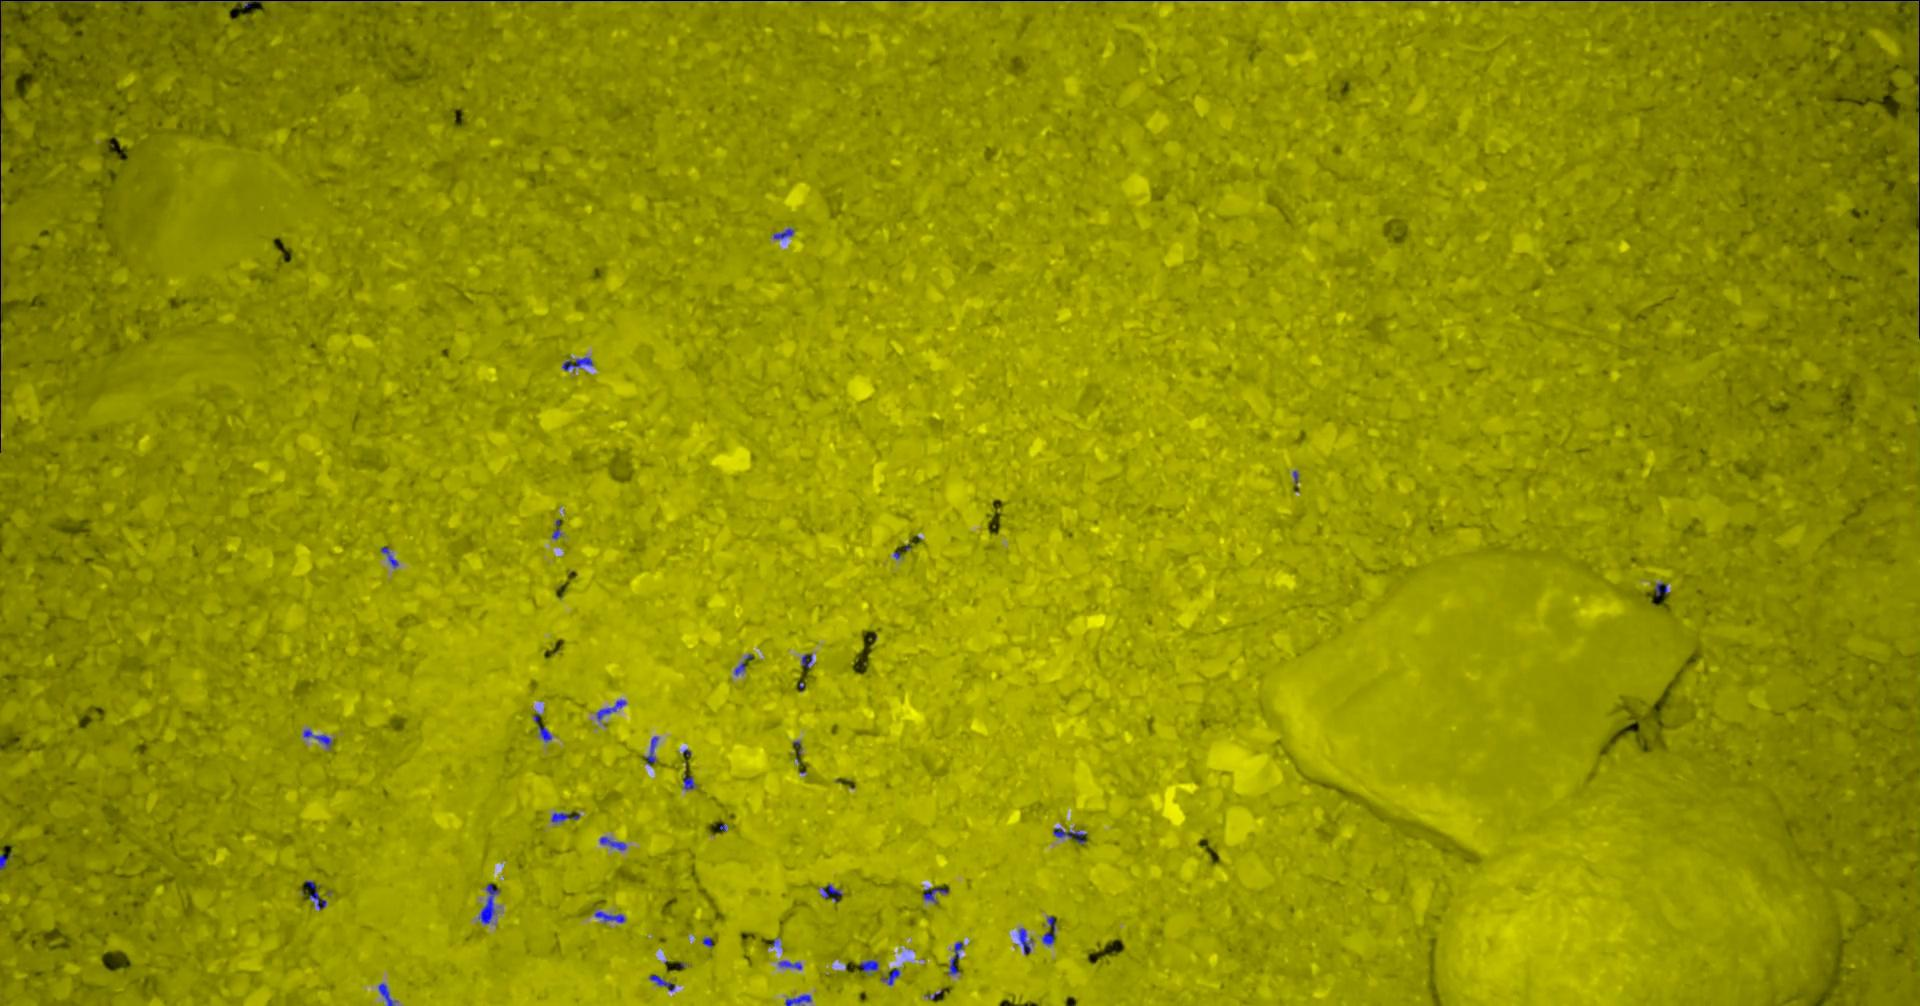ant: (480, 883, 502, 923), (598, 699, 627, 720), (307, 880, 328, 909), (949, 941, 965, 974), (1055, 827, 1087, 843), (305, 729, 333, 747), (563, 356, 594, 370), (924, 887, 950, 903), (1043, 916, 1057, 944), (380, 983, 397, 1005), (1020, 927, 1034, 954), (648, 735, 660, 765), (651, 974, 676, 989), (382, 546, 400, 567), (601, 836, 629, 848), (596, 911, 626, 922), (883, 967, 902, 984), (823, 884, 843, 901), (552, 812, 582, 822), (786, 995, 813, 1005), (861, 959, 880, 972), (775, 227, 795, 239), (684, 770, 696, 789), (538, 725, 552, 741), (780, 960, 803, 969), (1656, 582, 1669, 594), (803, 653, 813, 668), (1, 854, 11, 869), (42, 0, 97, 1)
